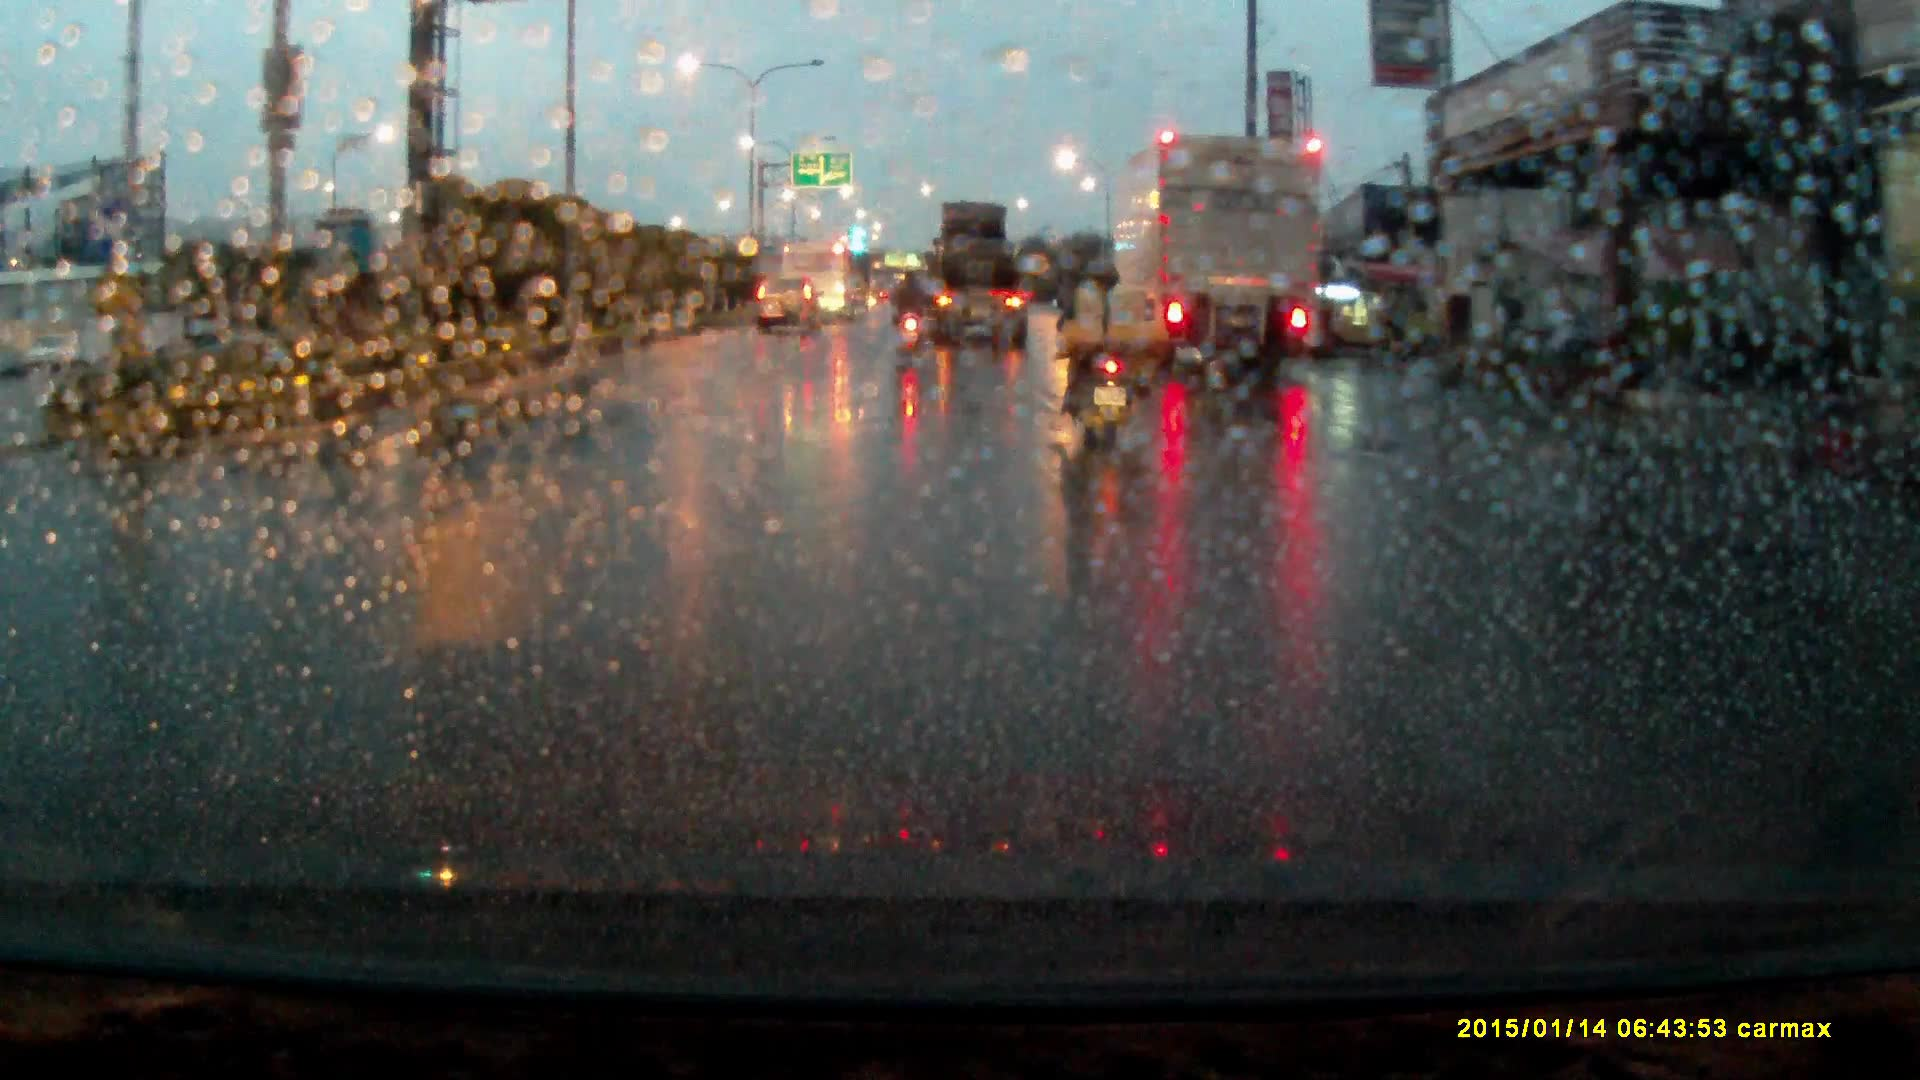rider: (1057, 254, 1142, 453), (892, 268, 931, 358)
vehicle: (1104, 134, 1325, 387), (923, 209, 1032, 363), (784, 244, 859, 327), (754, 285, 826, 351)
